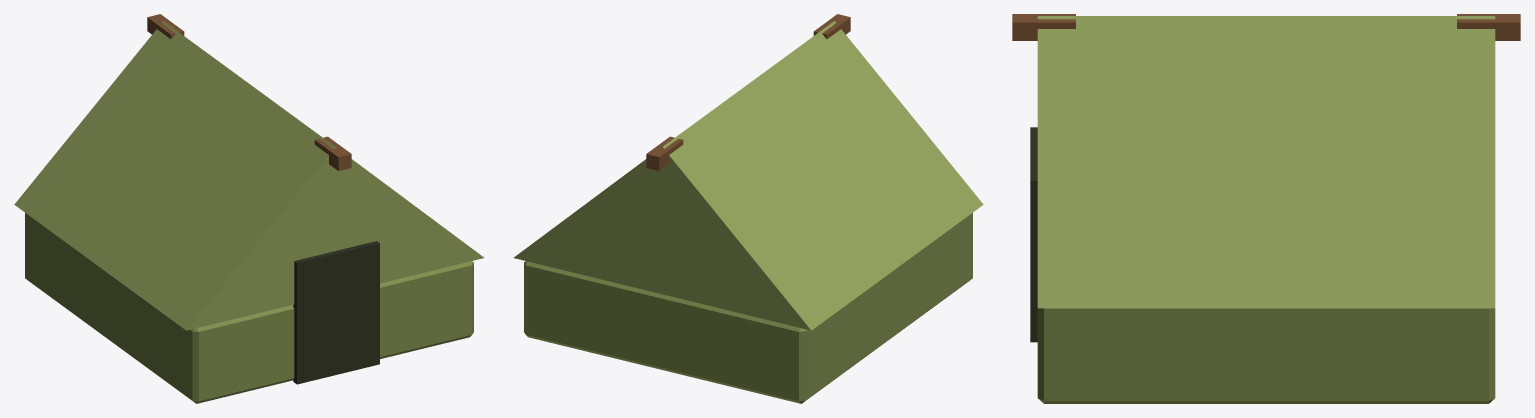
File: env_r1_army_tent.glb
3 renders of one model, left to right at view 1: azimuth 30°, elevation 25°; view 2: azimuth 150°, elevation 25°; view 3: azimuth 270°, elevation 25°, orthographic. The views are drawn at different scales.
Visible parts, largest first — view 1: env_r1_army_tent; view 2: env_r1_army_tent; view 3: env_r1_army_tent.
Boxes of the visible parts, x1=… form: env_r1_army_tent: x1=14, y1=14, x2=484, y2=403; env_r1_army_tent: x1=513, y1=14, x2=983, y2=403; env_r1_army_tent: x1=1012, y1=14, x2=1520, y2=403.
Bounding box in the file's own units: 3.6 × 2.6 × 4.
1 material, 1 textured.
